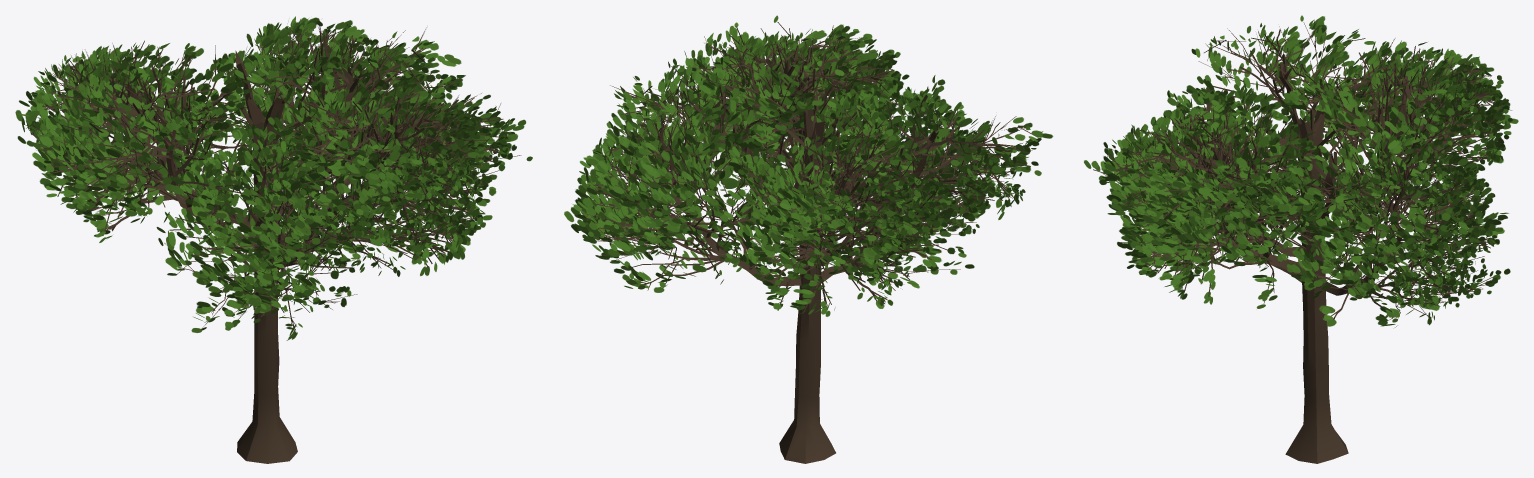
The picture shows the model from 3 angles, left to right: view 1: azimuth 30°, elevation 25°; view 2: azimuth 150°, elevation 25°; view 3: azimuth 270°, elevation 25°; orthographic projection. The views are drawn at different scales.
Parts seen in each view (by area): view 1: oak 01.001_trunk_Mat.001_0.067; view 2: oak 01.001_trunk_Mat.001_0.067; view 3: oak 01.001_trunk_Mat.001_0.067.
Boxes of the visible parts, box(x1,y1,x2,y2) form: oak 01.001_trunk_Mat.001_0.067: box(15, 16, 532, 463); oak 01.001_trunk_Mat.001_0.067: box(564, 15, 1053, 463); oak 01.001_trunk_Mat.001_0.067: box(1084, 15, 1518, 463).
Size of the model in its own units: 5.91 by 5.01 by 5.59.
2 materials, 1 textured.
